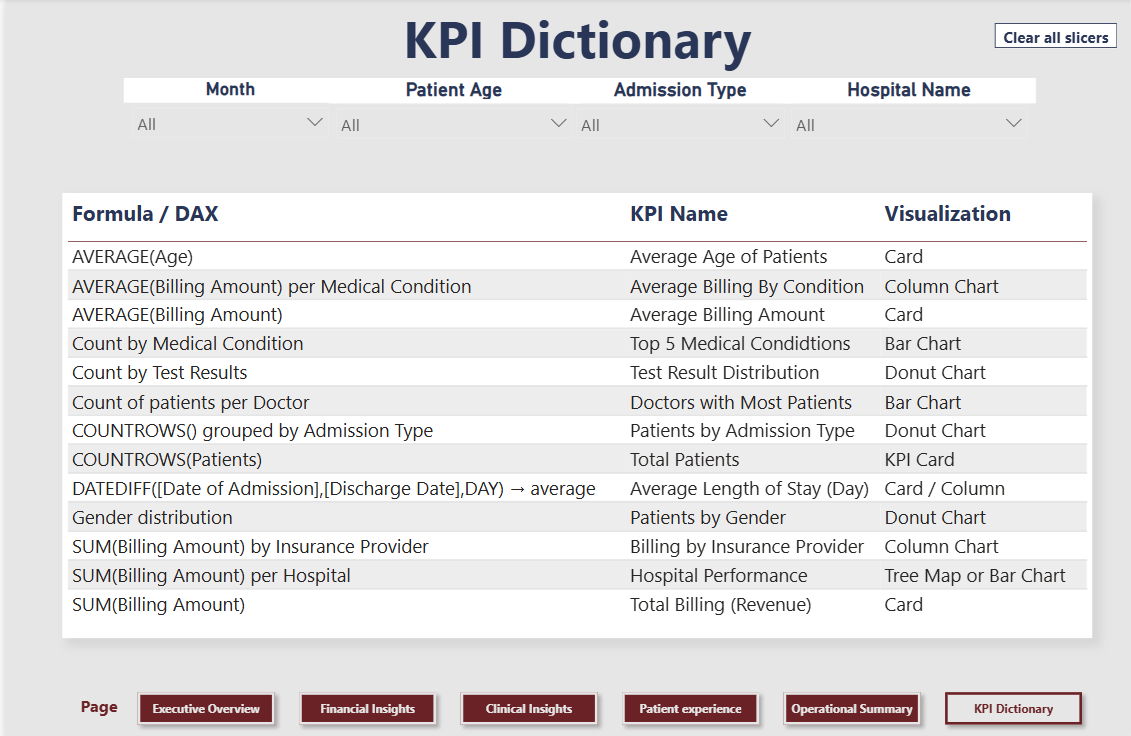

What the dashboard file says about the page in this screenshot:
{"tool":"powerbi","page":{"name":"KPI Dictionary ","canvas":[1280,850],"ordinal":5},"visuals":[{"type":"textbox","box":[365.7,0,570,112.9],"z":0},{"type":"slicer","title":"Admission Type","fields":{"Values":["healthcare_dataset.Admission Type"]},"box":[639.5,91.2,257.8,81.2],"z":1000},{"type":"slicer","title":"Hospital Name","fields":{"Values":["healthcare_dataset.Hospital"]},"box":[884.5,91.2,289.1,81.2],"z":2000},{"type":"slicer","title":"Patient Age","fields":{"Values":["healthcare_dataset.Age"]},"box":[366,91.2,289.1,81.2],"z":3000},{"type":"actionButton","box":[1126.6,28.5,139.6,28.5],"z":4000},{"type":"slicer","title":"Month","fields":{"Values":["healthcare_dataset.Date of Admission.Variation.Date Hierarchy.Month"]},"box":[133.9,91.2,243.6,68.4],"z":5000},{"type":"pageNavigator","box":[141,781.9,1096.7,55.5],"z":6000},{"type":"textbox","box":[79.8,789,61.2,41.3],"z":7000},{"type":"tableEx","fields":{"Values":["Table3.Formula / DAX idea  ","Table3.KPI Name  ","Table3.Visualization  "]},"box":[64.1,222.2,1173.6,507],"z":8000}]}

Visuals, with their boxes in screenshot pixels (x1, y1, x2, y2), scaled from the page's 1280x850 canvas onto the 1131x736 screenshot:
textbox: bbox(323, 0, 827, 98)
"Admission Type" slicer: bbox(565, 79, 793, 149)
"Hospital Name" slicer: bbox(782, 79, 1037, 149)
"Patient Age" slicer: bbox(323, 79, 579, 149)
actionButton: bbox(995, 25, 1119, 49)
"Month" slicer: bbox(118, 79, 334, 138)
pageNavigator: bbox(125, 677, 1094, 725)
textbox: bbox(71, 683, 125, 719)
tableEx - Table3.Formula / DAX idea   x Table3.KPI Name  : bbox(57, 192, 1094, 631)
